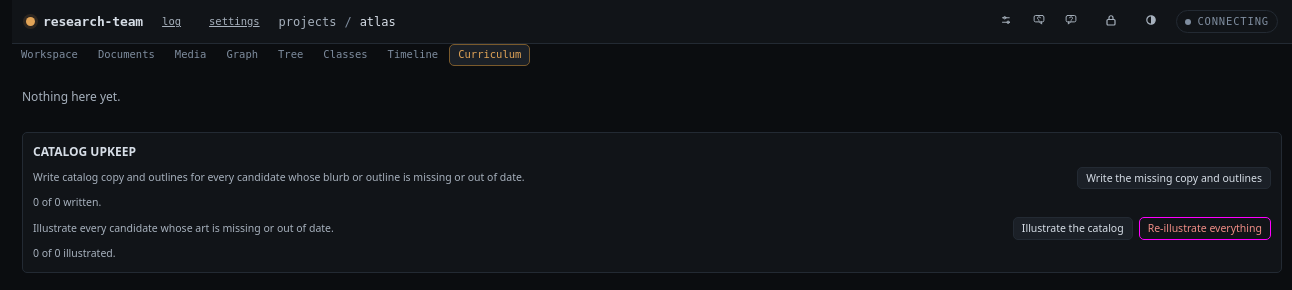
it: offers a Workspace with files for a project nobody is holding
Step 1. Click the tab "Workspace" → {"x": 49, "y": 55}, box [12,44,87,66]
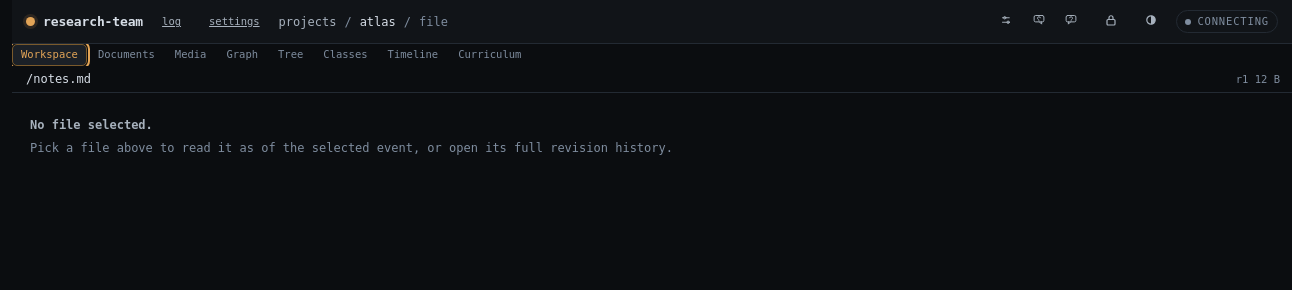
Expected: the option "/notes.md r1 12 B" is shown, [26,72,1280,86]
